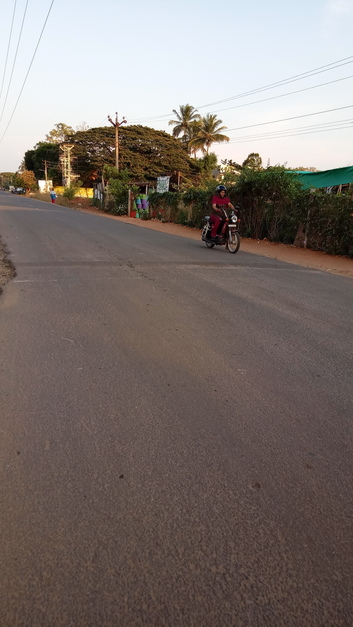bump: (11, 258, 315, 275)
